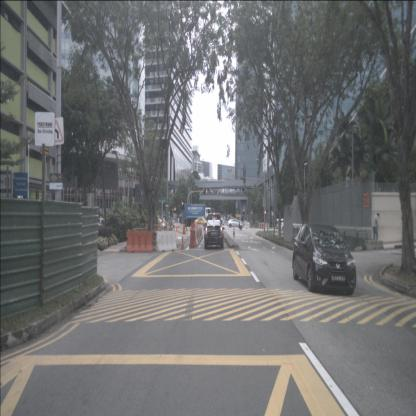barrier: (126, 231, 154, 253), (155, 230, 177, 252), (190, 230, 197, 248), (194, 229, 198, 246), (178, 224, 184, 233), (190, 223, 196, 231), (198, 229, 202, 240), (199, 228, 203, 239), (197, 228, 200, 242), (183, 224, 186, 234), (201, 228, 204, 237)
cone: (180, 236, 185, 250)
